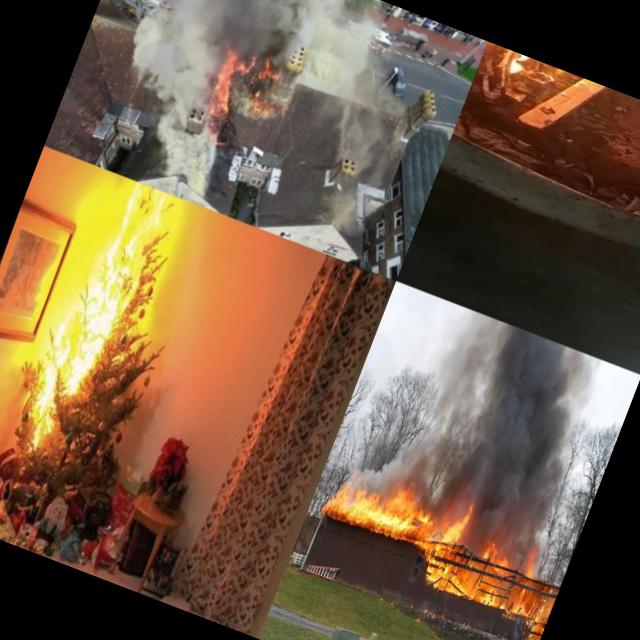fire: (14, 174, 168, 458), (323, 456, 479, 564), (454, 533, 569, 640), (201, 42, 252, 116), (242, 61, 282, 98), (243, 91, 284, 127)
smoke: (388, 303, 618, 536), (105, 0, 265, 110), (283, 56, 403, 166), (138, 84, 237, 193), (288, 0, 396, 77), (225, 0, 315, 78)
